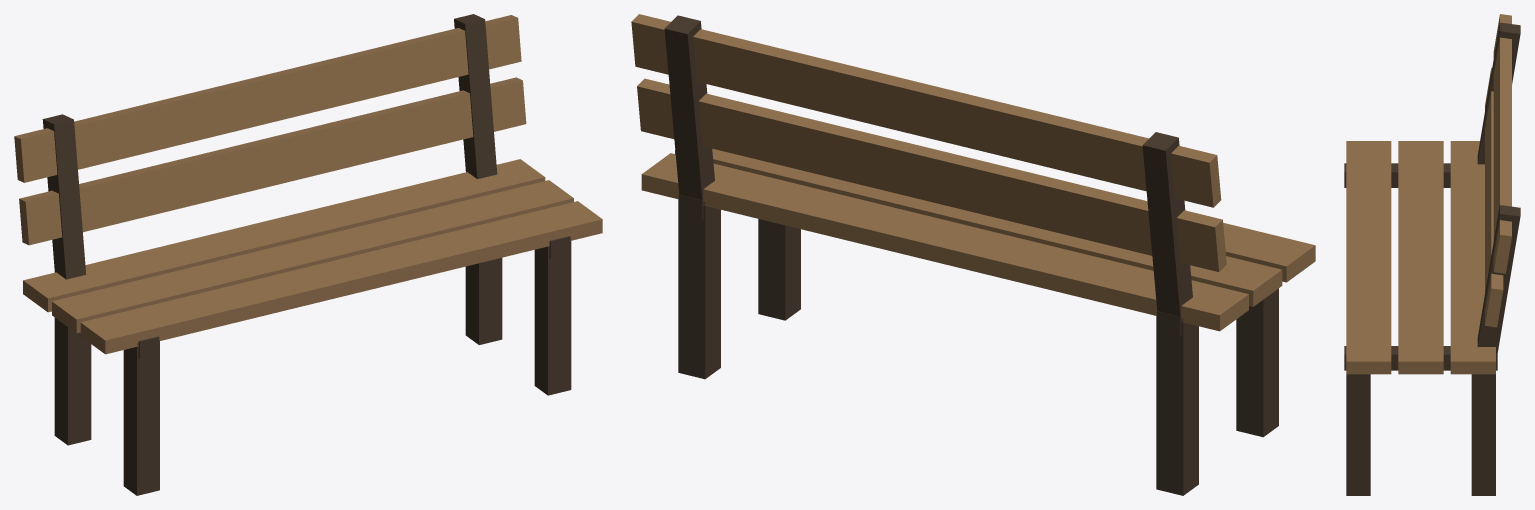
File: bench_wood.glb
3 views of the same model, side by side, from view 1: azimuth 30°, elevation 25°; view 2: azimuth 150°, elevation 25°; view 3: azimuth 270°, elevation 25° (orthographic). The views are drawn at different scales.
Visible parts, largest first — view 1: bench_wood; view 2: bench_wood; view 3: bench_wood.
Part boxes in pixels (x1,y1,x2,y2): bench_wood: (14, 14, 602, 495); bench_wood: (631, 14, 1315, 495); bench_wood: (1344, 14, 1520, 495).
Size of what is drawn, in the model's own units: 1.5 by 0.8918 by 0.5055.
1 material, 1 textured.
